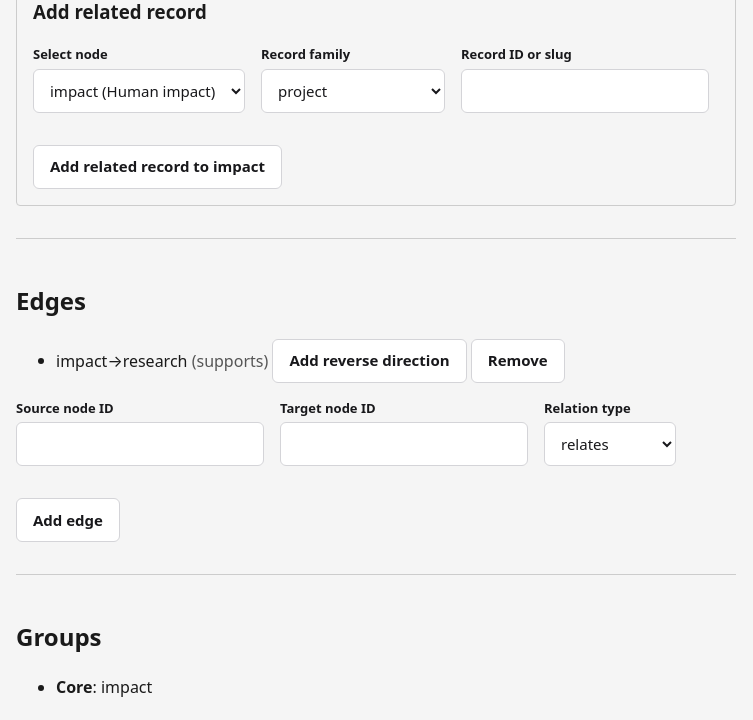
Test: GraphEditPage (ADMIN-210) › adds the reverse direction of an existing edge
(page scrolled)
Step 1. Click the button "Add reverse direction" → (369, 360), box [272,338,466,382]
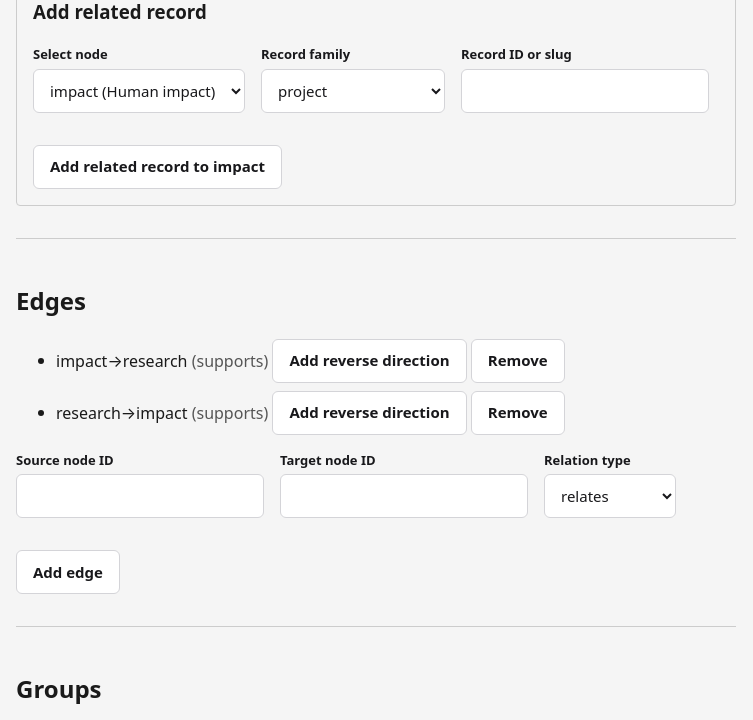
Expected: the list item "research→impact (supports) Add reverse direction Remove" is shown, [56,390,565,434]
